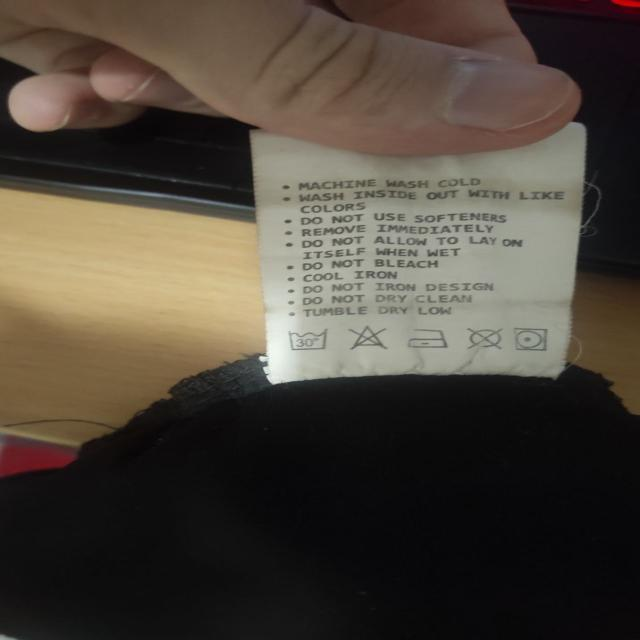30C: (287, 325, 330, 352)
DN_bleach: (349, 323, 388, 352)
DN_dry_clean: (467, 321, 504, 351)
iron_low: (406, 321, 449, 350)
tumble_dry_low: (512, 320, 552, 352)
